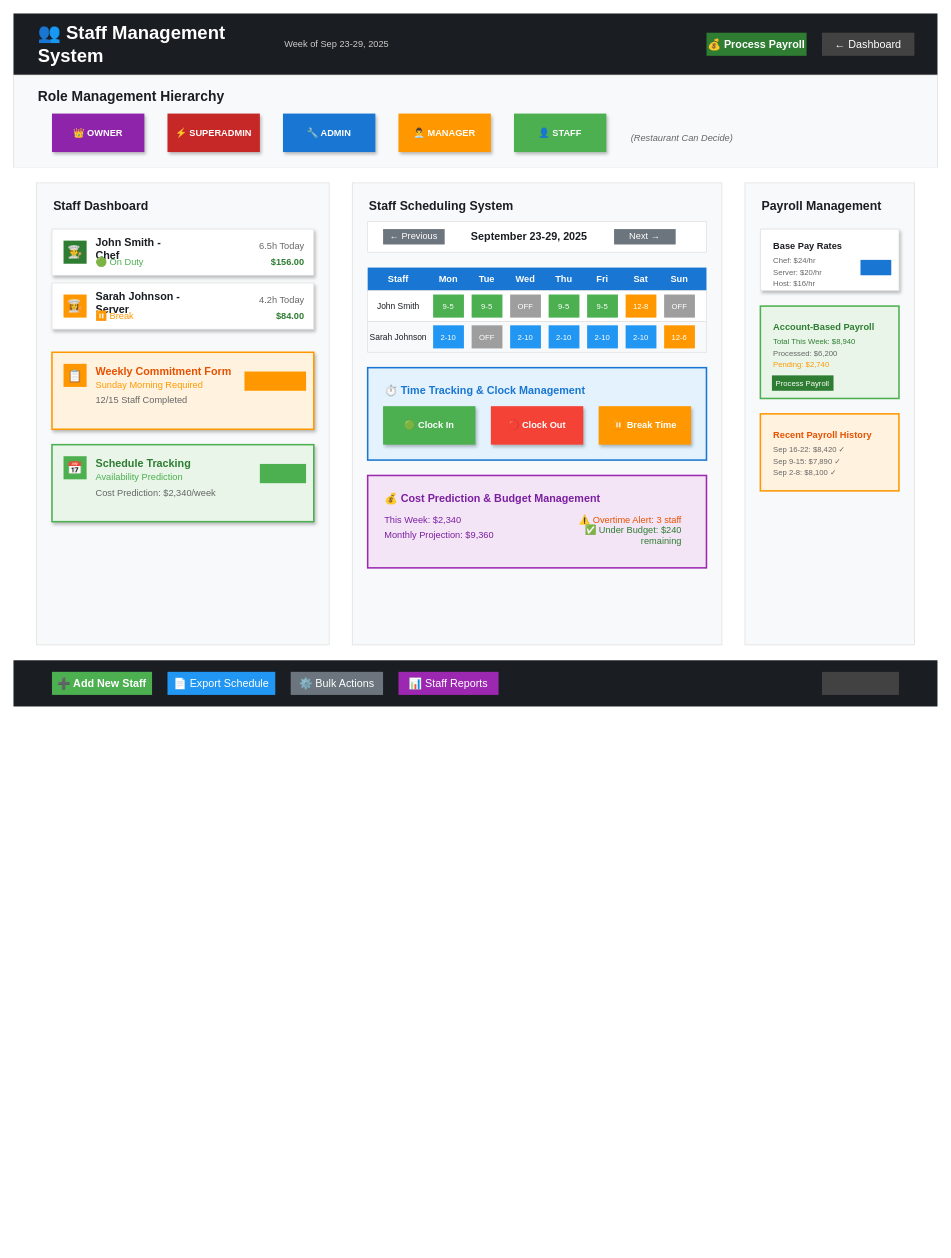
Some shapes in this 951 by 1258 pixel diagram are drawn without their labels. The centre of each missing label's shape, as x and y in pixels:
Edit Rates: point (875, 267)
Manage: point (282, 473)
View Forms: point (275, 380)
⚙️ Settings: point (860, 683)
